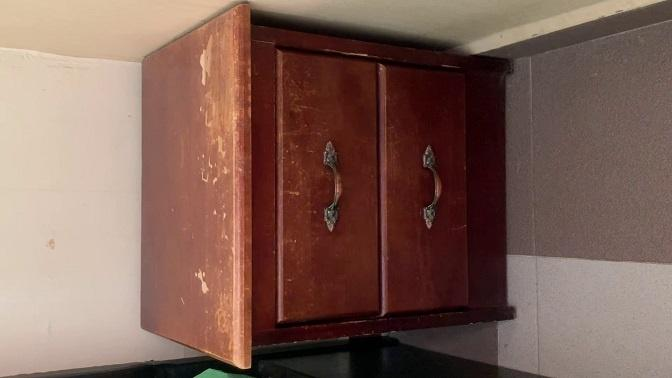cabinet_door: (276, 51, 383, 319), (383, 65, 464, 315)
handle: (317, 140, 348, 236), (420, 144, 446, 231)
